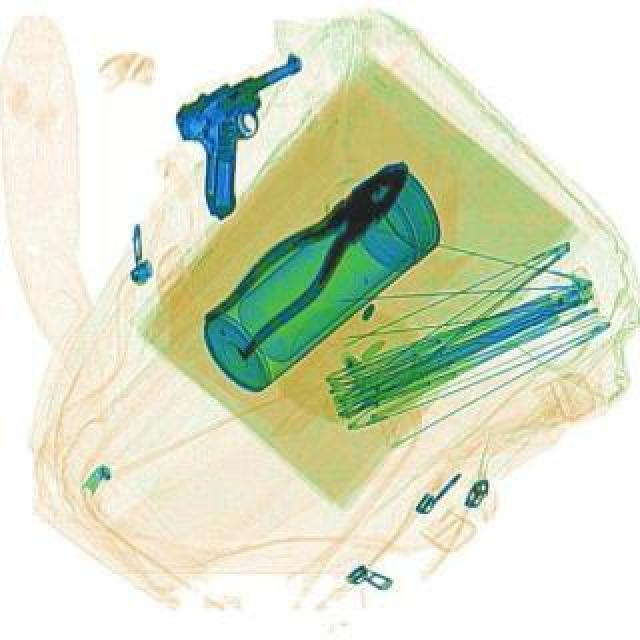gun: (154, 52, 350, 220)
wrench: (192, 142, 432, 366)
